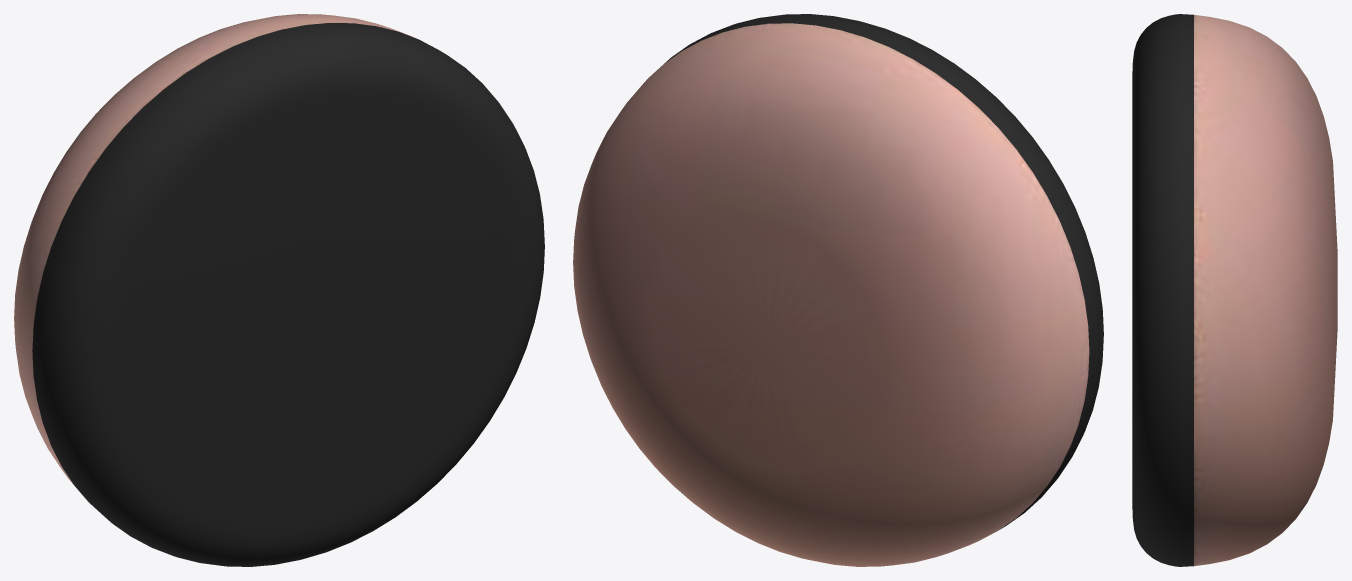
Rendered from clock.glb.
The picture shows the model from 3 angles, left to right: view 1: azimuth 30°, elevation 25°; view 2: azimuth 150°, elevation 25°; view 3: azimuth 270°, elevation 25°; orthographic projection. The views are drawn at different scales.
Visible parts, largest first — view 1: Reloj; view 2: Reloj; view 3: Reloj.
Boxes of the visible parts, x1,y1,x2,y2 form: Reloj: [14, 14, 544, 566]; Reloj: [573, 14, 1103, 566]; Reloj: [1132, 14, 1337, 566].
Size of the model in its own units: 1.99 by 1.99 by 0.7372.
2 materials, 1 textured.
